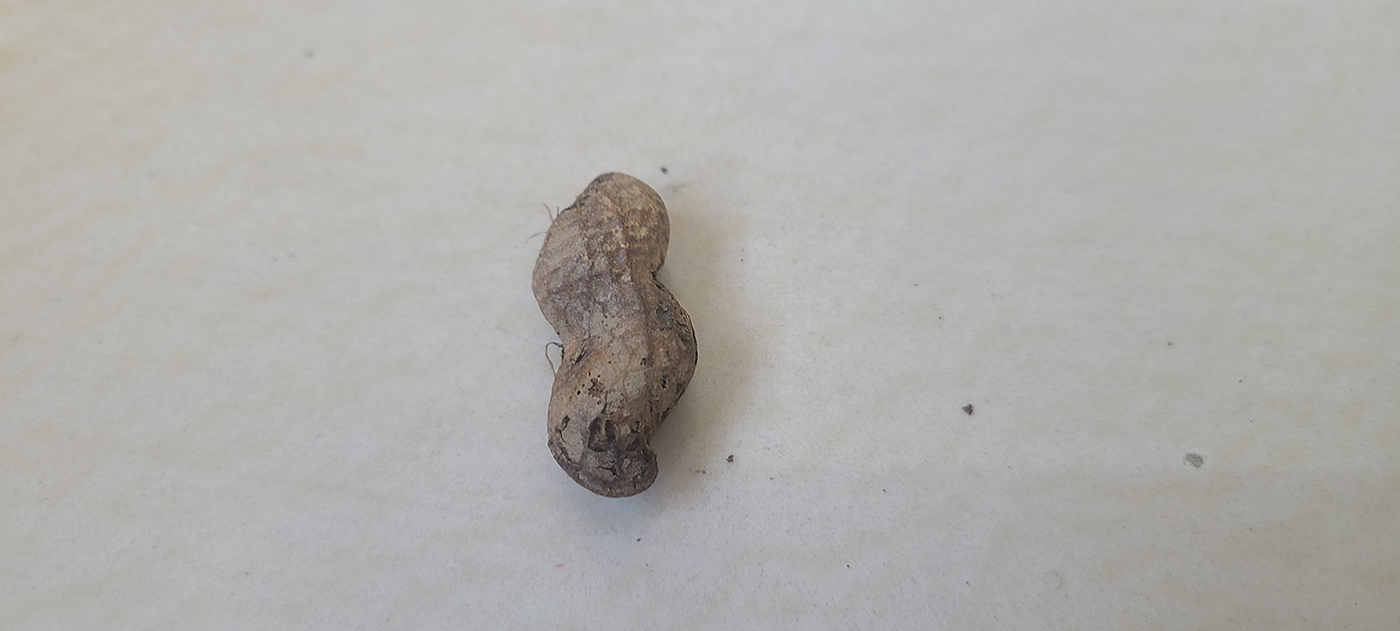l: (533, 168, 700, 498)
